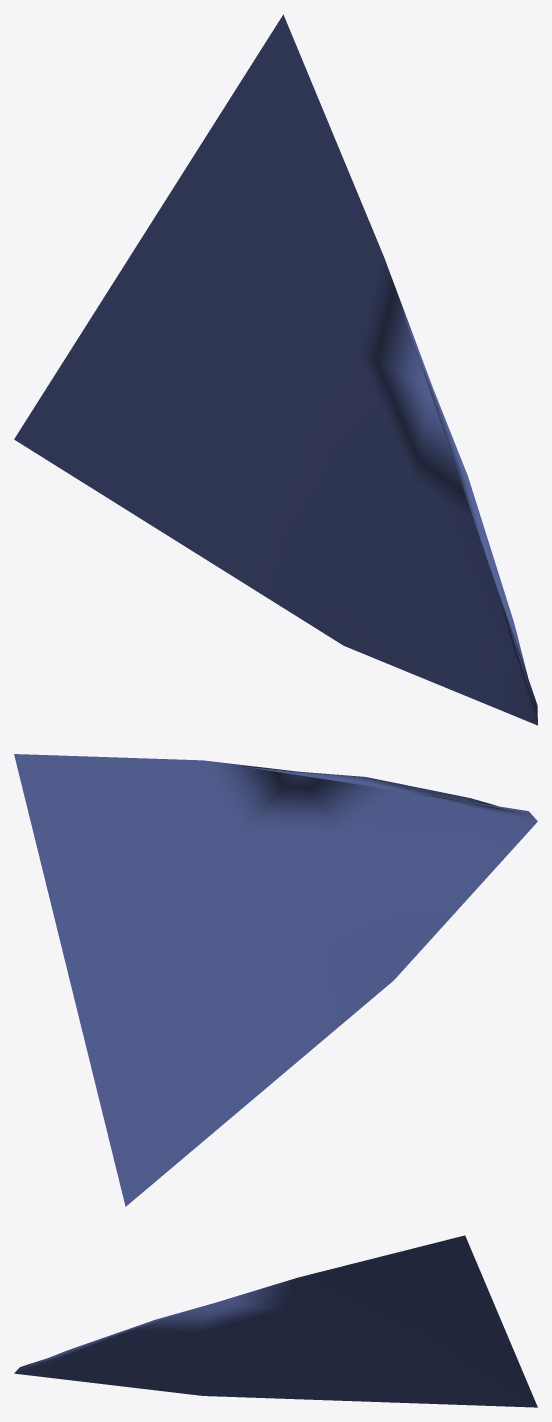
File: Muscle_2_Glass_L.fbx
3 renders of one model, top to bottom at view 1: azimuth 30°, elevation 25°; view 2: azimuth 150°, elevation 25°; view 3: azimuth 270°, elevation 25°, orthographic. The views are drawn at different scales.
Parts seen in each view (by area): view 1: Muscle_2_Glass_L; view 2: Muscle_2_Glass_L; view 3: Muscle_2_Glass_L.
Boxes of the visible parts, x1,y1,x2,y2 form: Muscle_2_Glass_L: (14, 14, 537, 725); Muscle_2_Glass_L: (14, 754, 537, 1206); Muscle_2_Glass_L: (14, 1235, 537, 1407).
Bounding box in the file's own units: 12.34 × 25.25 × 53.73.
